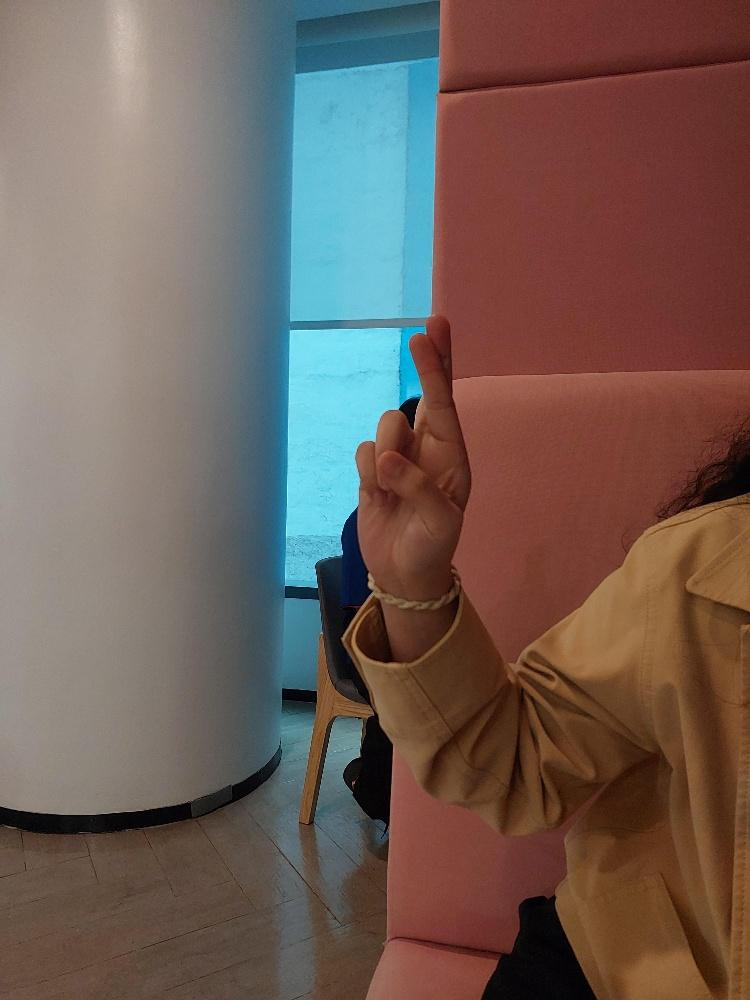r: (347, 305, 476, 605)
